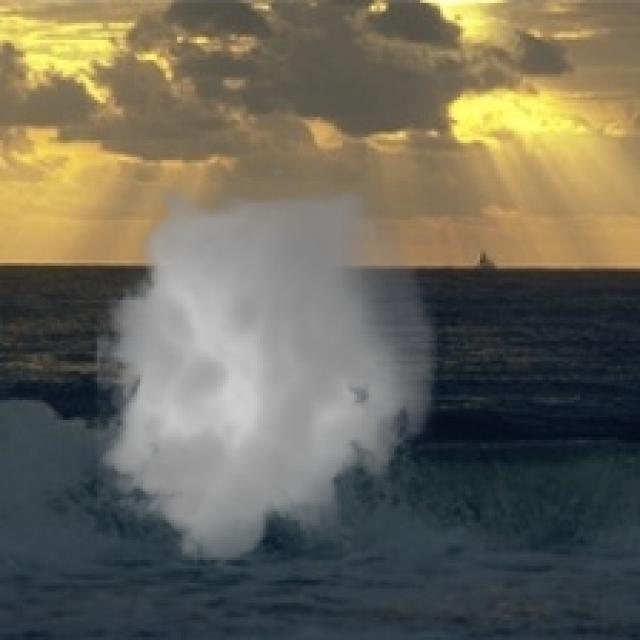Smoke: (80, 168, 449, 580)
